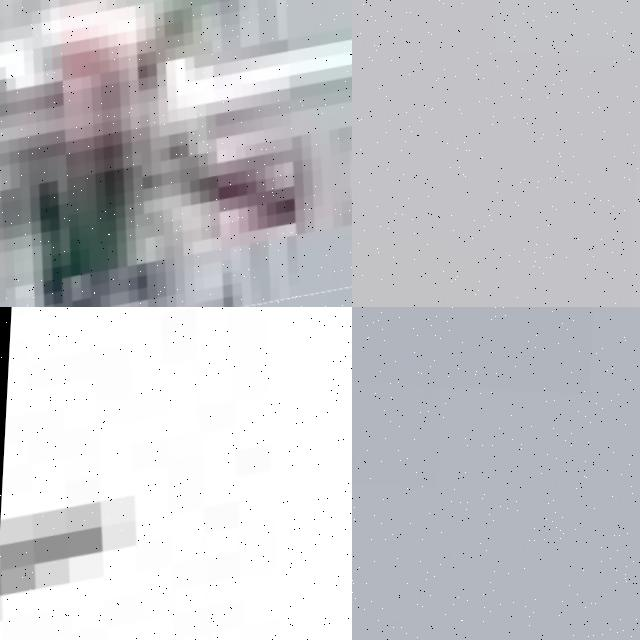0: (0, 0, 352, 307)
drone: (0, 307, 352, 640)
